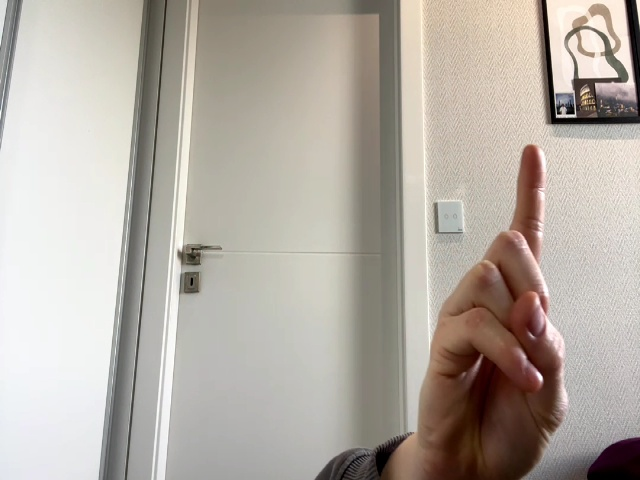Z: (418, 145, 569, 480)
